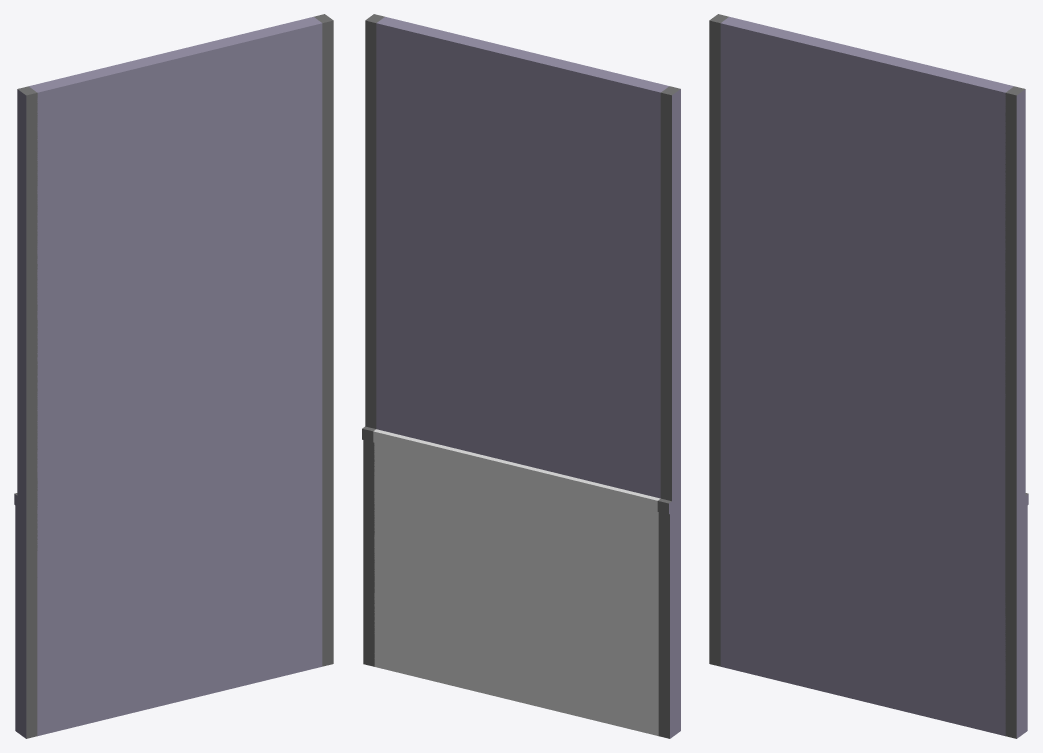
Rendered from Wall-02.fbx.
The picture shows the model from 3 angles, left to right: view 1: azimuth 30°, elevation 25°; view 2: azimuth 150°, elevation 25°; view 3: azimuth 330°, elevation 25°; orthographic projection.
Visible parts, largest first — view 1: Wall 02; view 2: Wall 02; view 3: Wall 02.
Boxes of the visible parts, <box> form: Wall 02: <box>14,14,333,738</box>; Wall 02: <box>362,14,680,738</box>; Wall 02: <box>709,14,1028,738</box>.
Size of the model in its own units: 100 by 200 by 6.72.
